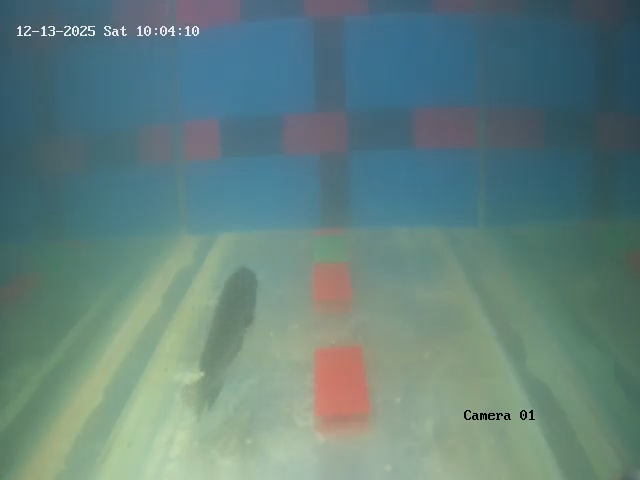fish: (204, 264, 259, 369)
